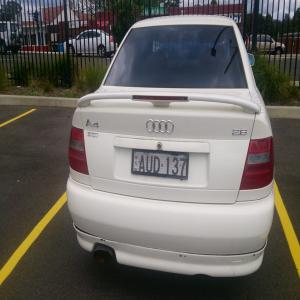Vehicle-registration-plate: (134, 146, 196, 192)
